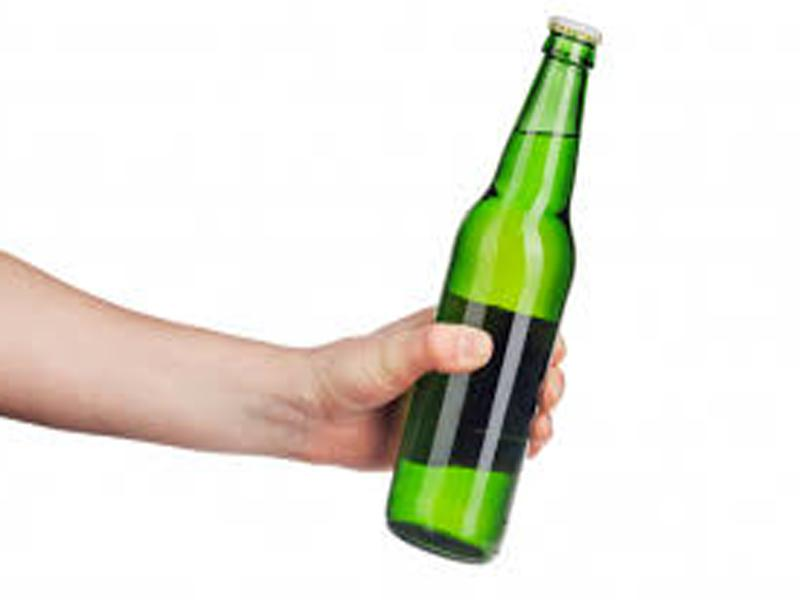Beer: (386, 16, 601, 564)
